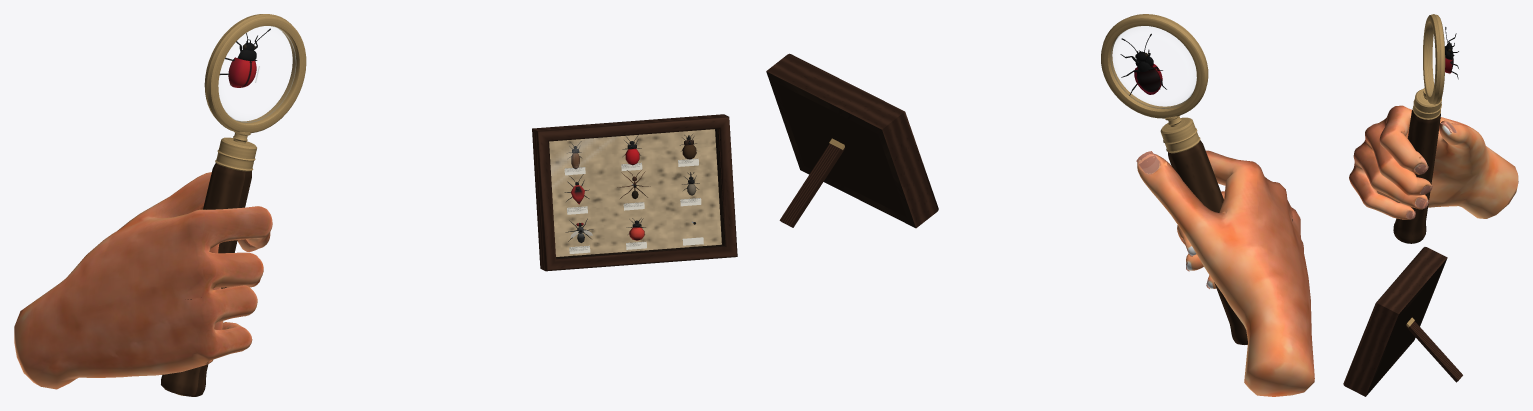
The picture shows the model from 3 angles, left to right: view 1: azimuth 30°, elevation 25°; view 2: azimuth 150°, elevation 25°; view 3: azimuth 270°, elevation 25°; orthographic projection. The views are drawn at different scales.
Visible parts, largest first — view 1: qa_mao_malha, qa_caixa_malha, qa_lupa_malha; view 2: qa_mao_malha, qa_caixa_malha, qa_lupa_malha, qa_bug_corpo; view 3: qa_mao_malha, qa_caixa_malha, qa_lupa_malha, qa_mao_unhas.
Part boxes in pixels (x1,y1,x2,y2): qa_mao_malha: (14, 172, 272, 389); qa_caixa_malha: (532, 114, 737, 271); qa_lupa_malha: (161, 14, 306, 396); qa_mao_malha: (1137, 150, 1314, 396); qa_caixa_malha: (766, 53, 938, 228); qa_lupa_malha: (1101, 14, 1247, 344); qa_bug_corpo: (1121, 33, 1159, 92); qa_mao_malha: (1349, 105, 1518, 219); qa_caixa_malha: (1343, 247, 1462, 396); qa_lupa_malha: (1393, 14, 1445, 243); qa_mao_unhas: (1406, 121, 1456, 219).
Size of the model in its own units: 0.4981 by 0.2572 by 0.1595.
6 materials, 5 textured.
